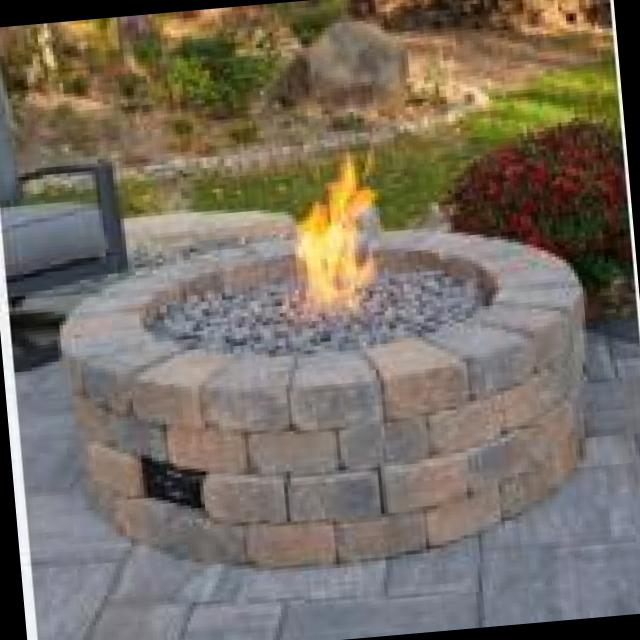Fire_Save: (268, 146, 392, 324)
